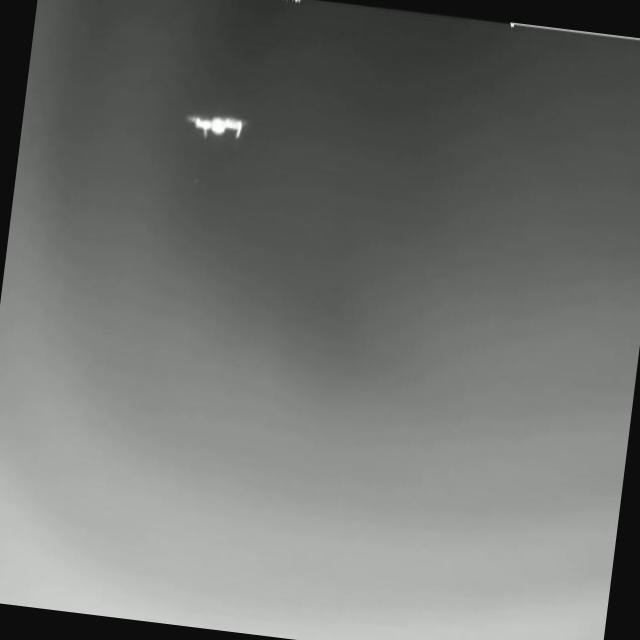DRONE: (184, 109, 249, 140)
